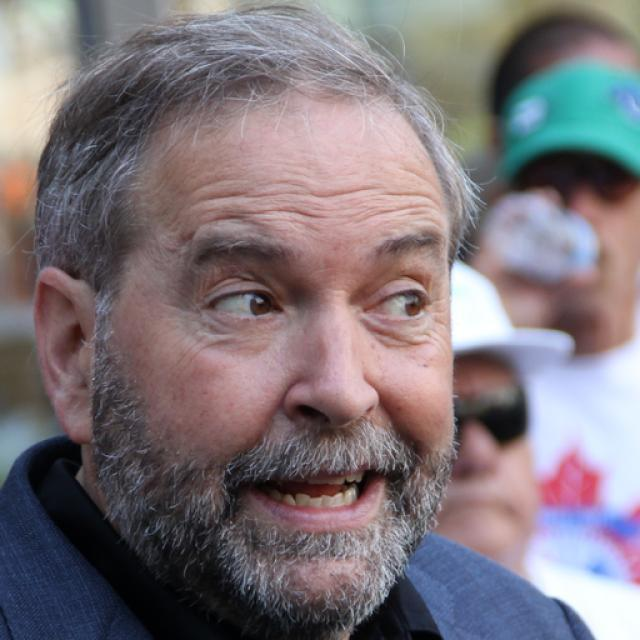surprise: (98, 98, 456, 630)
